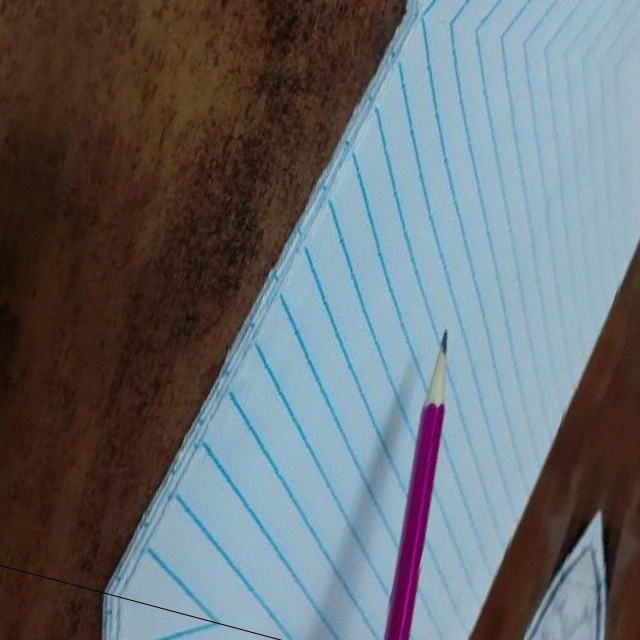pencil: (417, 325, 469, 410)
